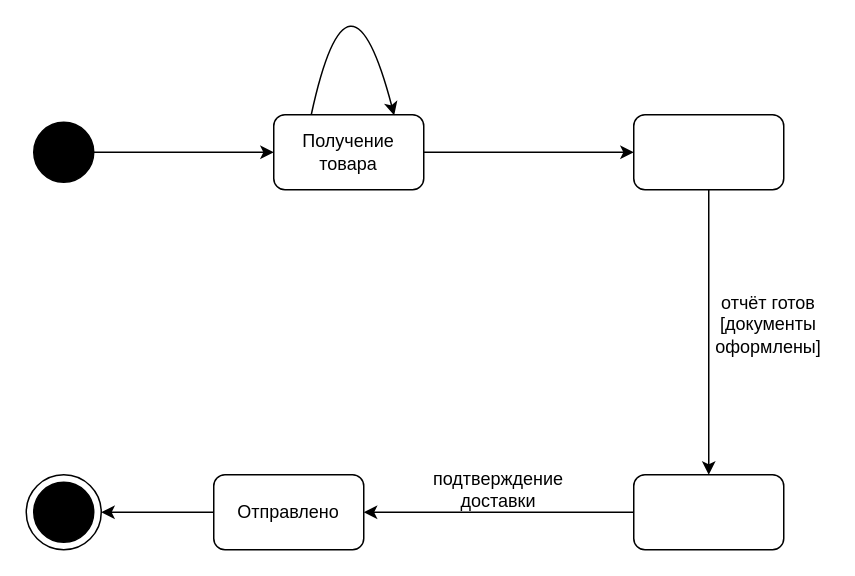
Image size: 855x576. Some labels were removed from this diagram. Here are the shapes that lost their labels. From the top down, the centre of each, then its label:
point (708, 151): Формируем отчёт
point (708, 511): Отправка
